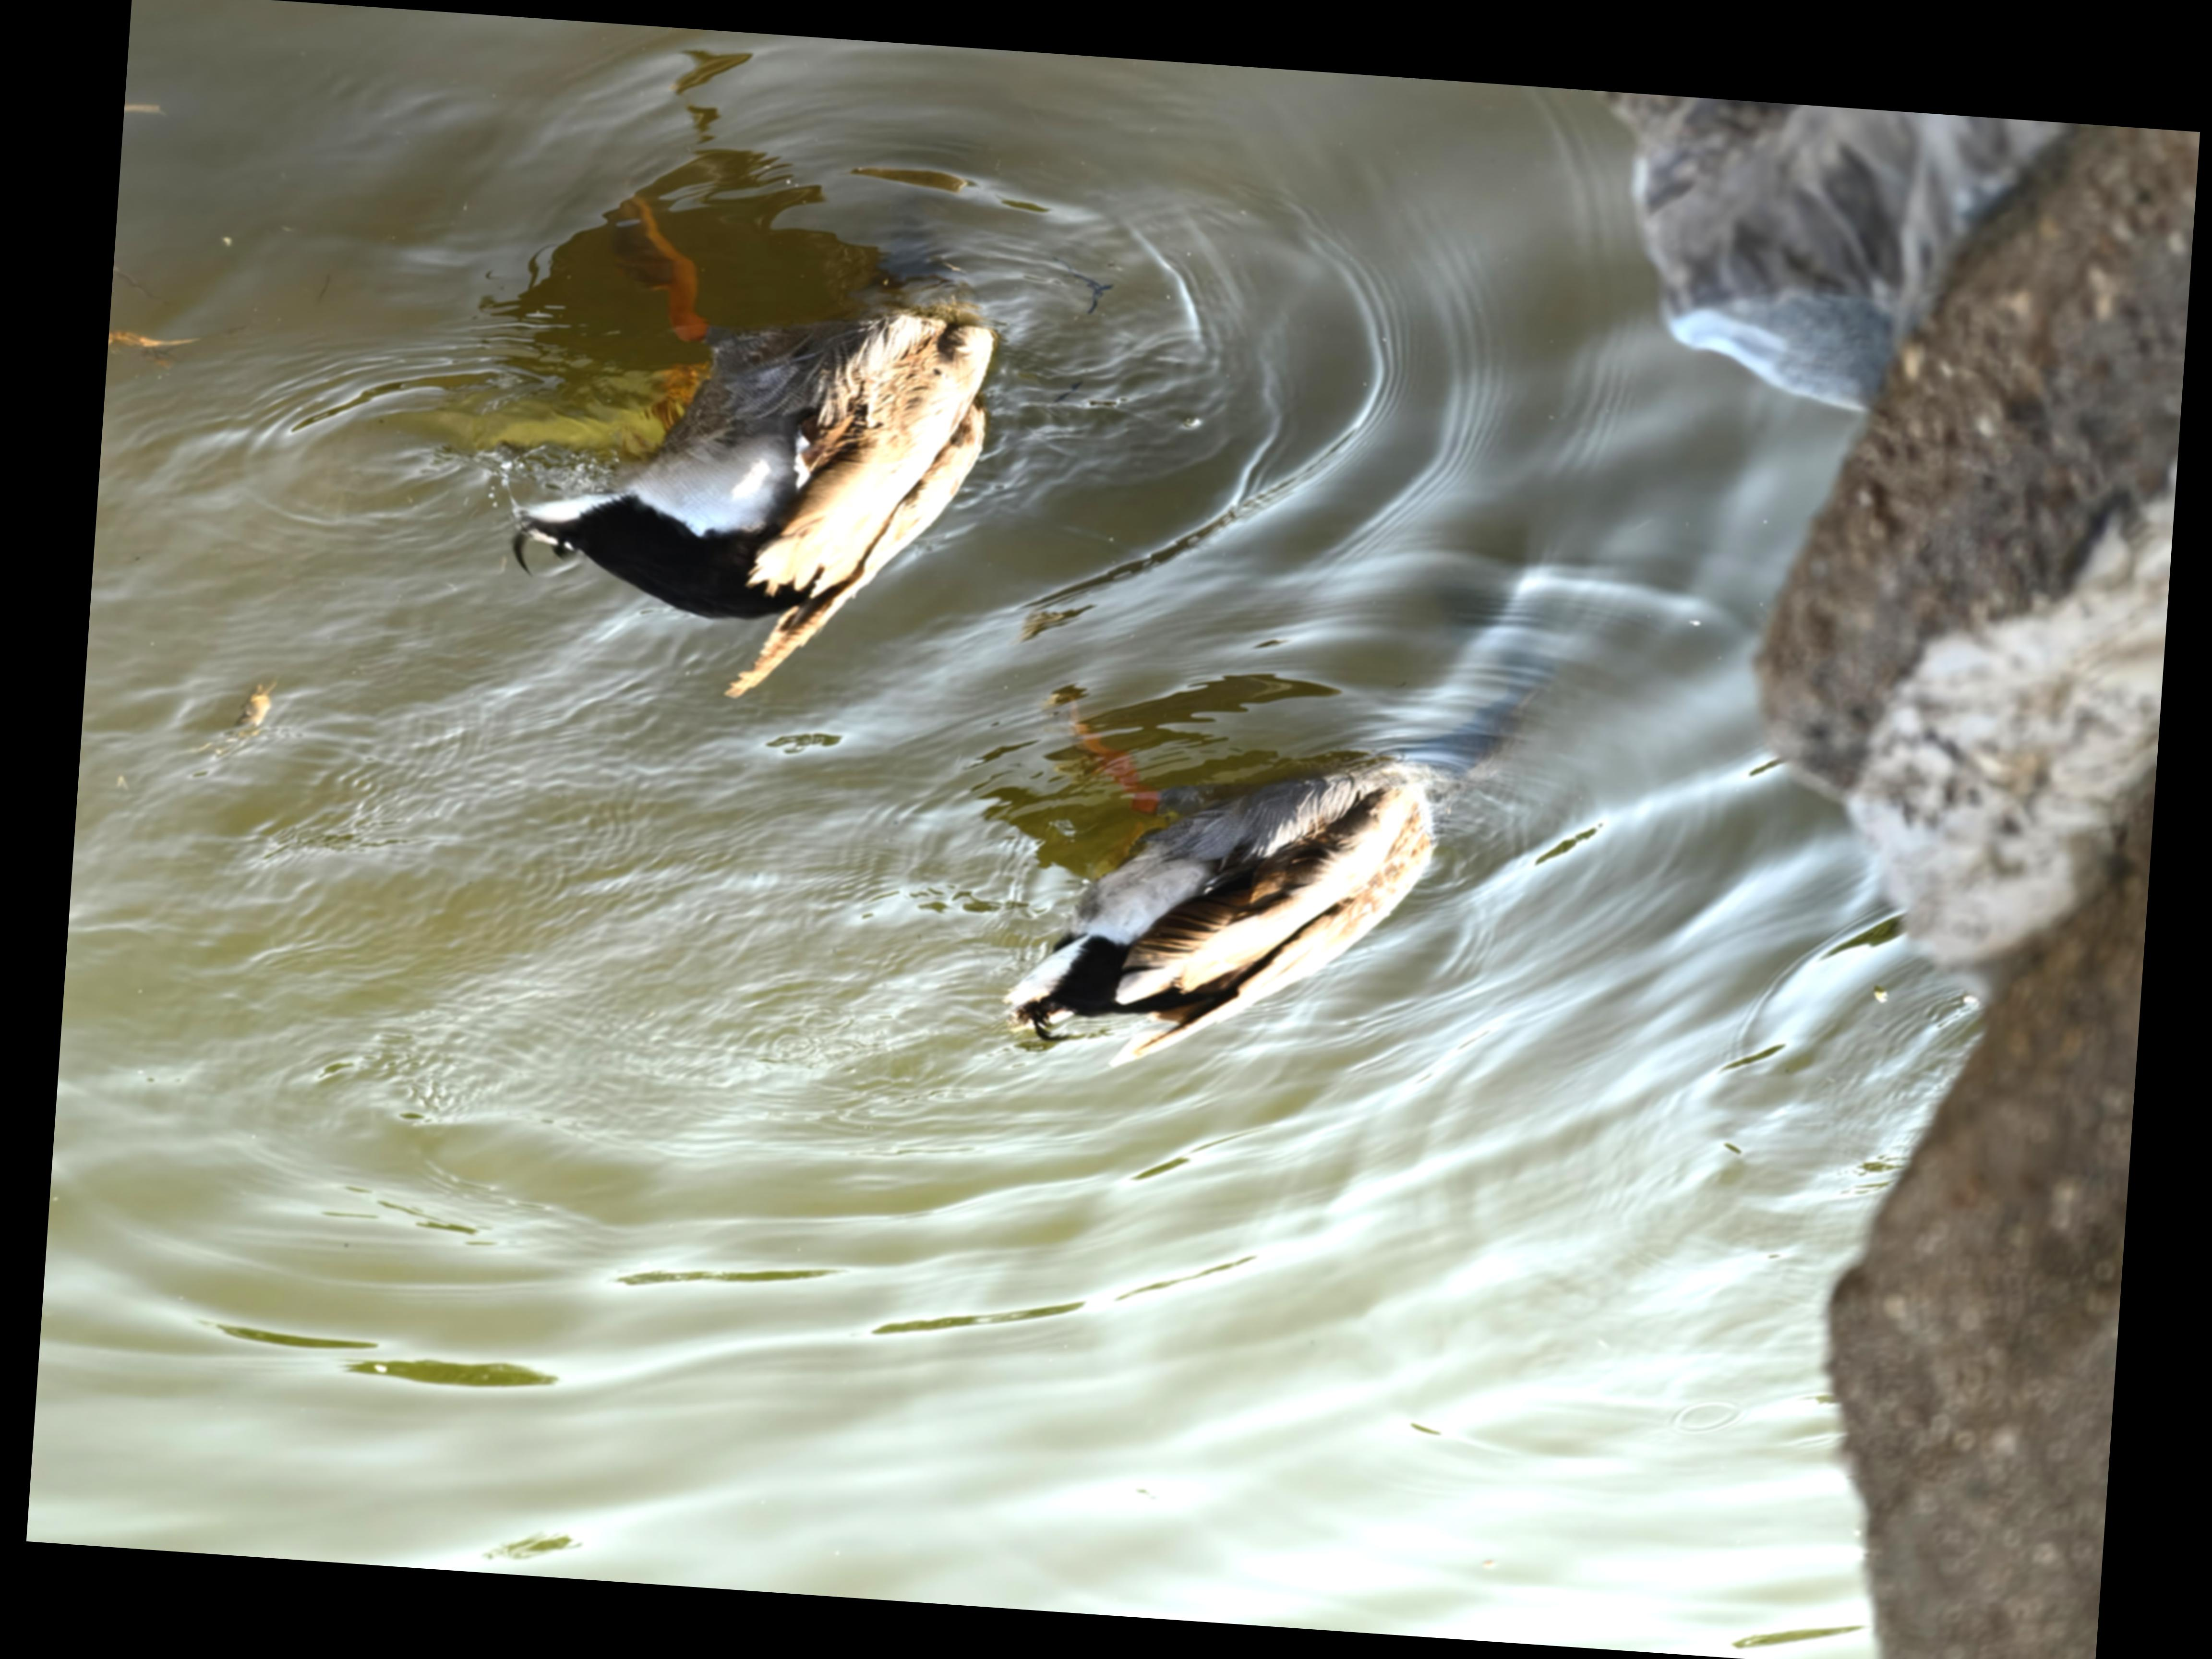duck: (430, 192, 1085, 749), (960, 728, 1472, 1115)
